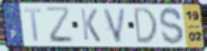D: (132, 6, 158, 46)
K: (79, 7, 103, 44)
S: (158, 6, 186, 47)
T: (22, 7, 43, 43)
V: (101, 7, 128, 44)
Z: (44, 6, 76, 45)
